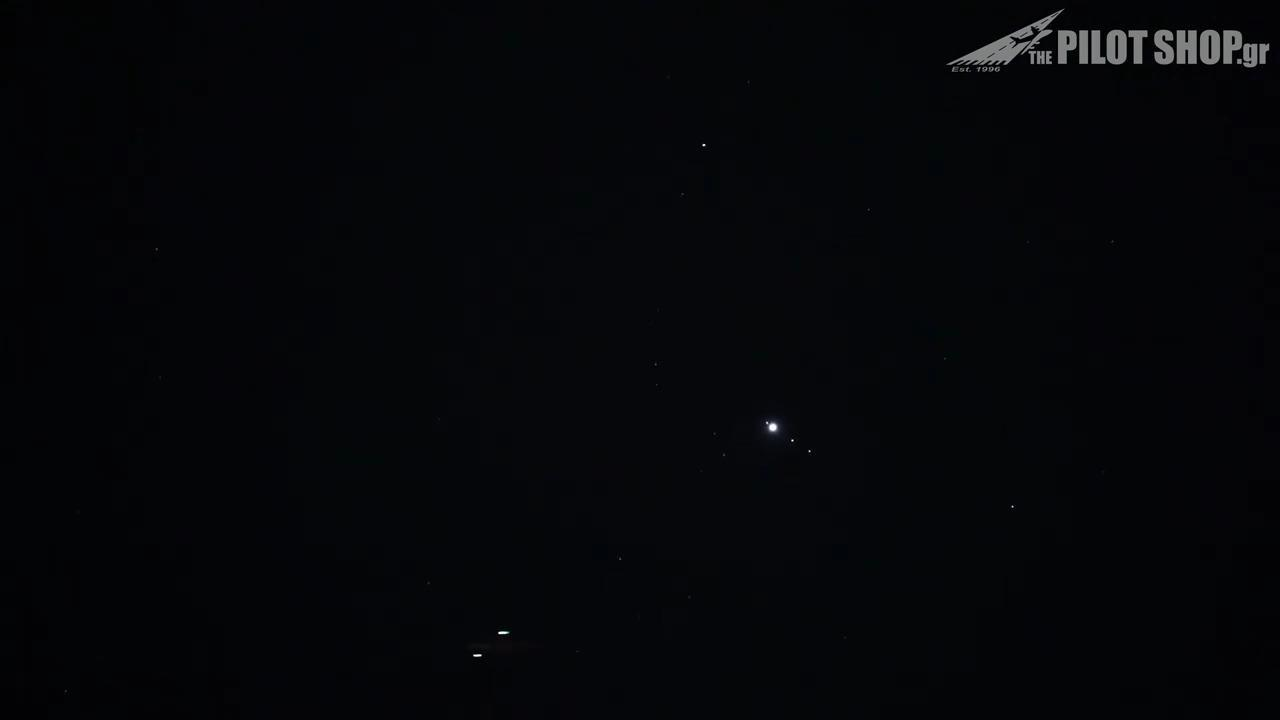Plane: (450, 619, 531, 672)
